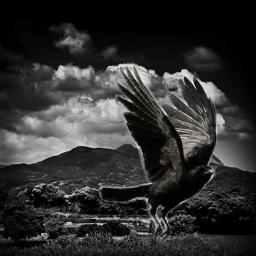Crow: (99, 64, 219, 245)
